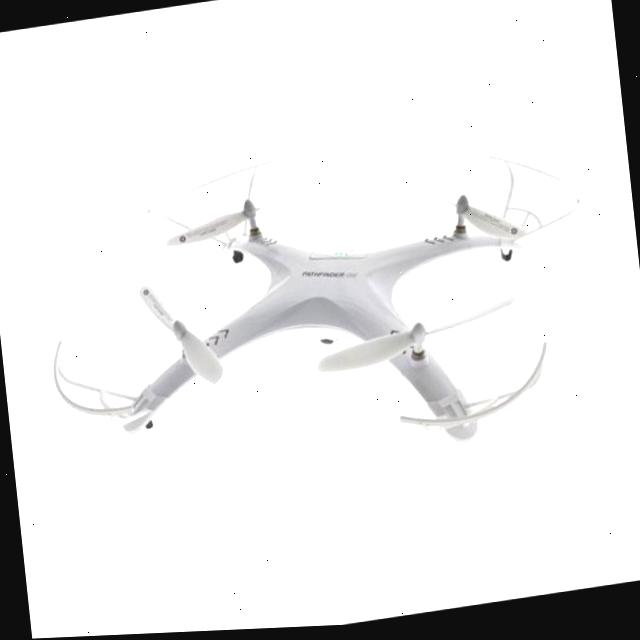drone: (13, 101, 622, 509)
